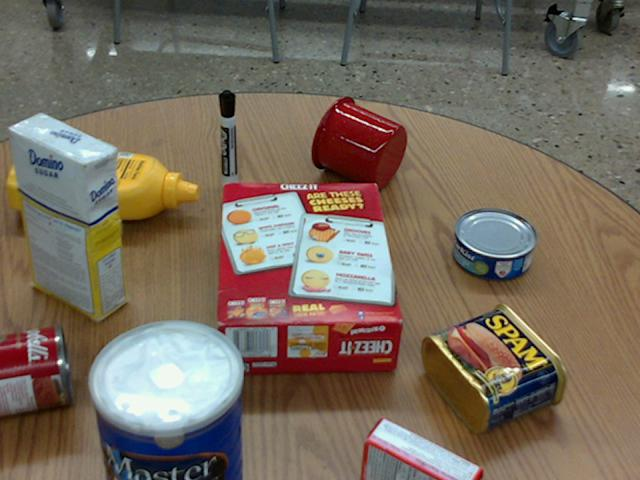cracker_box: (216, 184, 402, 370)
gelatin_box: (360, 416, 483, 479)
large_marker: (218, 90, 236, 187)
master_chef_can: (86, 320, 239, 479)
mug: (311, 96, 406, 189)
mustard_bottle: (8, 144, 197, 219)
potted_meat_can: (423, 303, 567, 433)
sugar_box: (9, 113, 123, 321)
tomato_soup_can: (0, 323, 72, 414)
tuna_fish_can: (452, 208, 536, 279)
